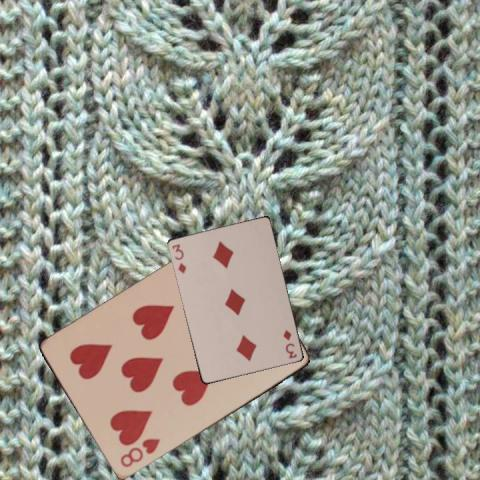3d: (169, 241, 187, 275), (280, 326, 298, 359)
8h: (117, 436, 161, 470)
